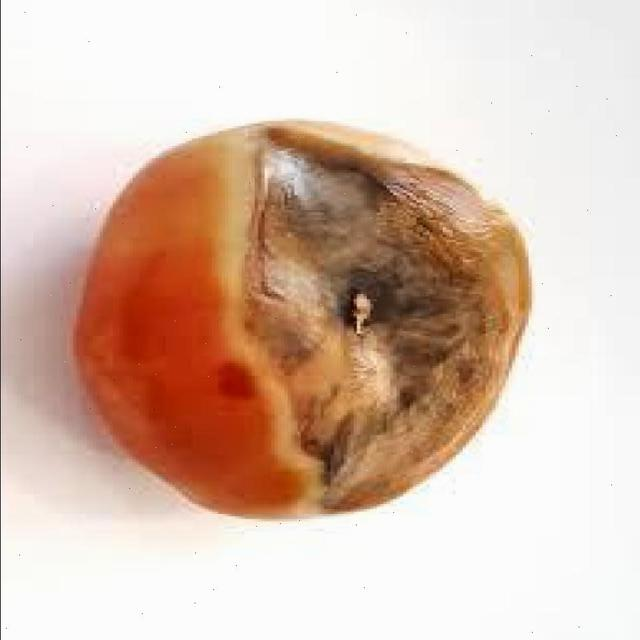Blossom End Rot Fruit: (159, 75, 357, 345)
